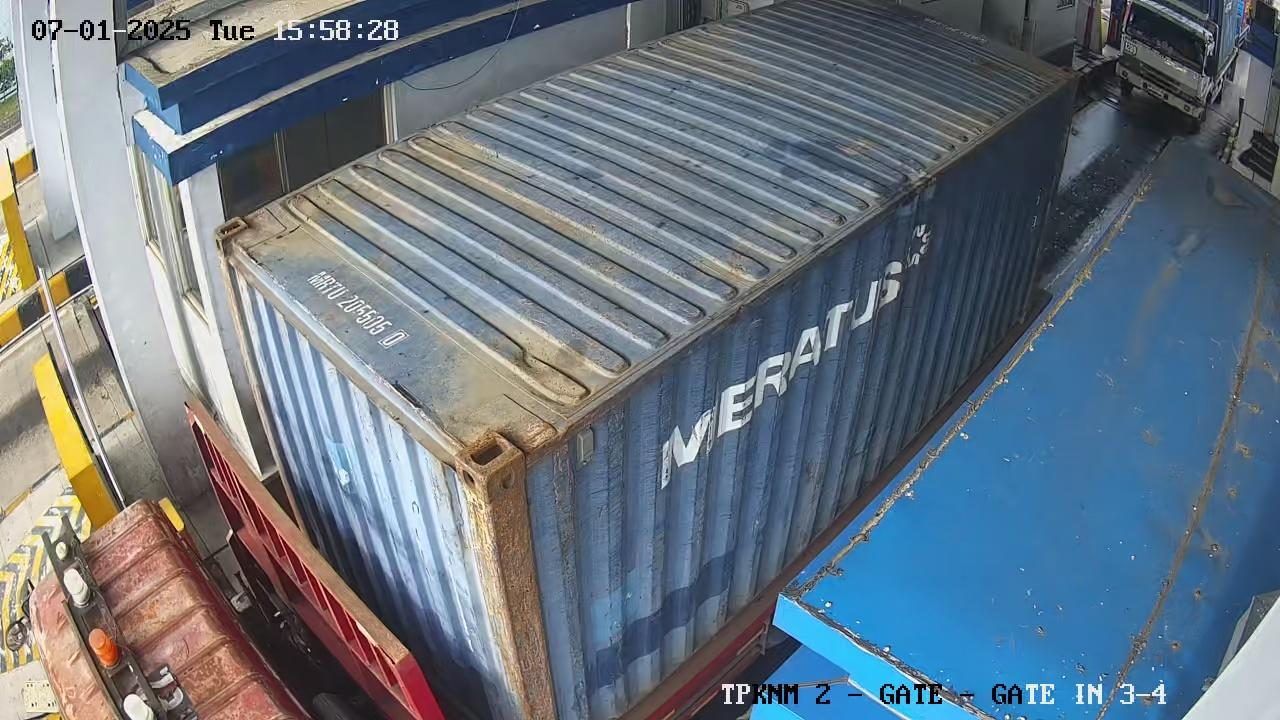Container_ID: (282, 246, 414, 369)
